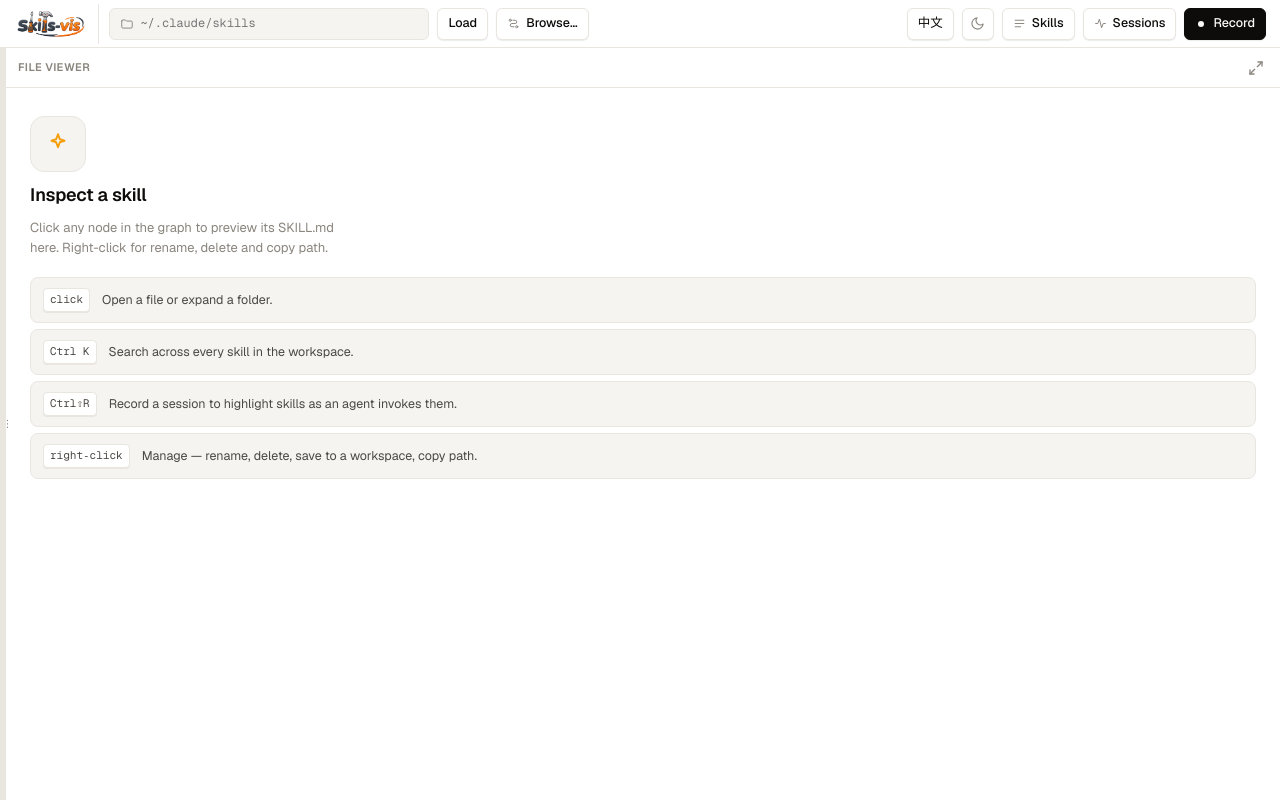
Test: Import Skills modal › opens ImportSkillsModal when Import Skills button is clicked
Click the button with test id "open-import" at [542, 24], box [496,8,589,40]
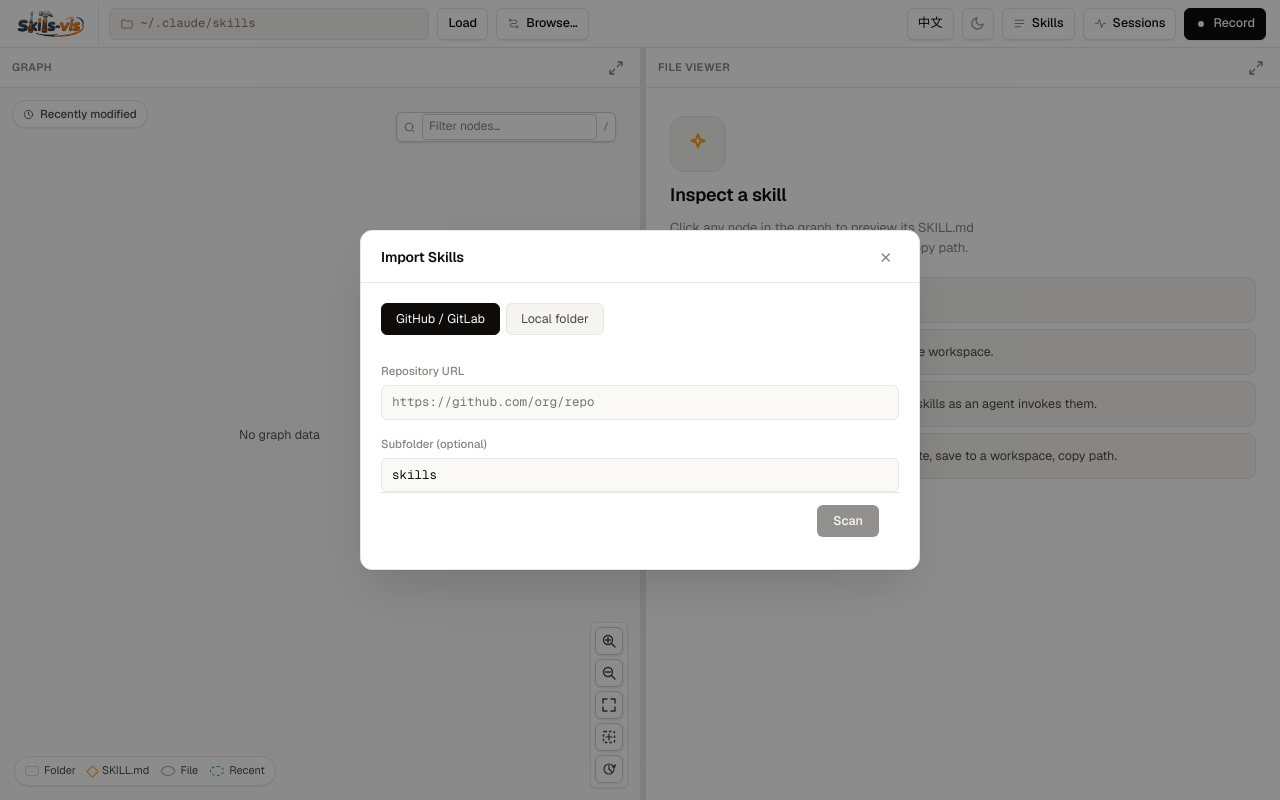
expect the element with test id "import-modal" is shown: met
